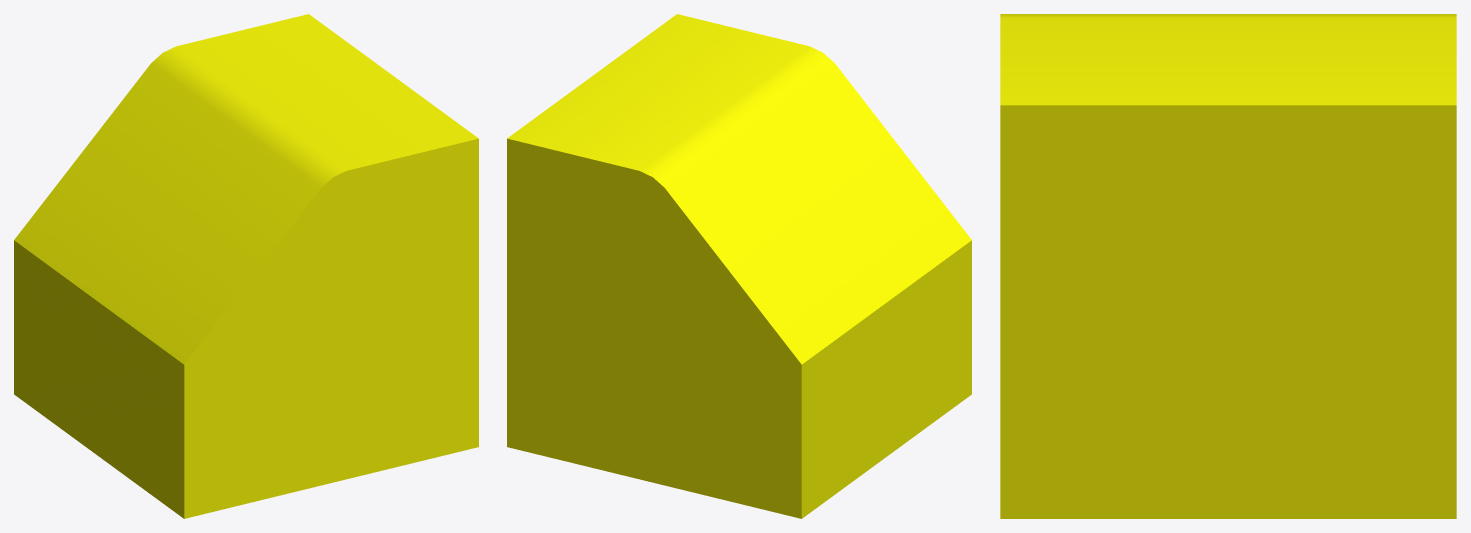
File: kaykit-terrain-slope.glb
3 views of the same model, side by side, from view 1: azimuth 30°, elevation 25°; view 2: azimuth 150°, elevation 25°; view 3: azimuth 270°, elevation 25° (orthographic). The views are drawn at different scales.
Parts seen in each view (by area): view 1: terrain_slope; view 2: terrain_slope; view 3: terrain_slope.
Boxes of the visible parts, box(x1,y1,x2,y2) form: terrain_slope: box(14, 14, 478, 518); terrain_slope: box(507, 14, 971, 518); terrain_slope: box(1000, 14, 1456, 518).
Size of the model in its own units: 2 by 2 by 2.
